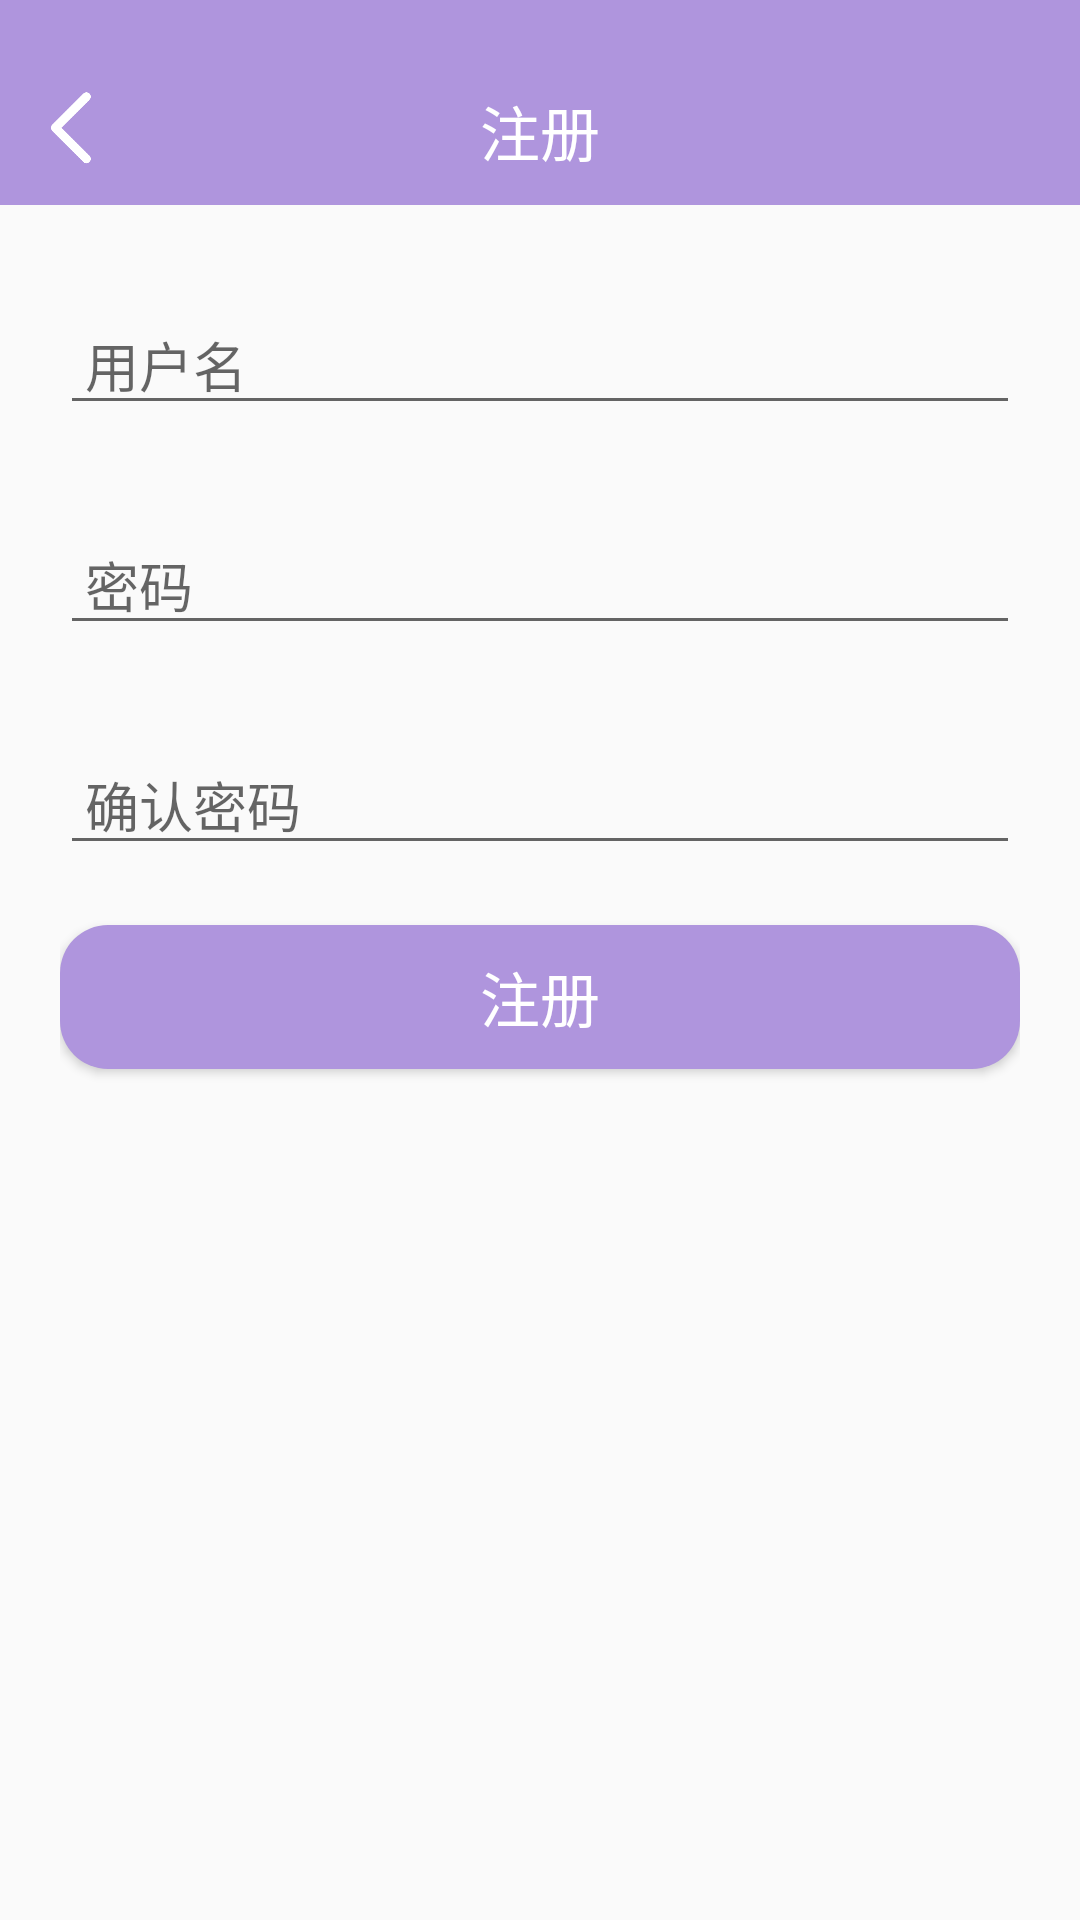

Named icons in this screenshot (1080*1920) and their centers, [x,y]:
back: [71,127]
